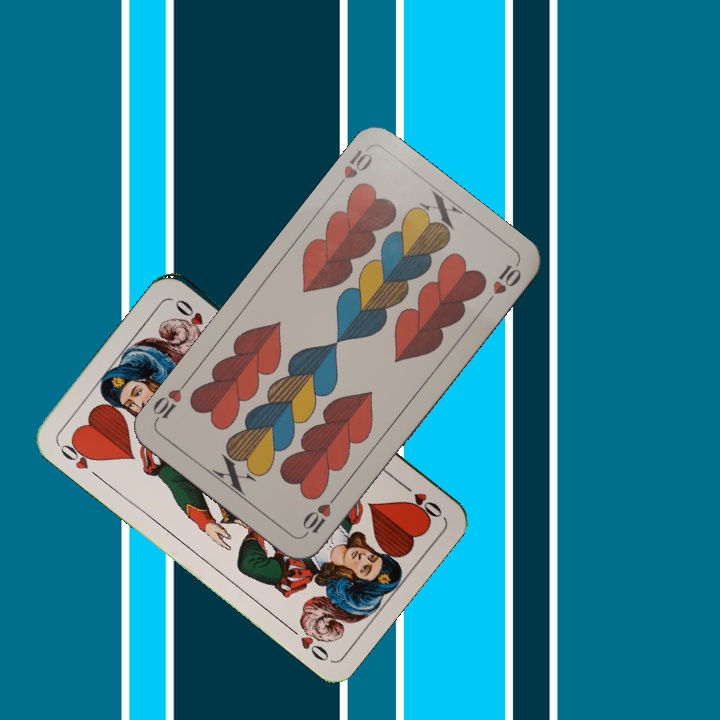H10: (330, 145, 375, 194), (298, 489, 341, 539)
HO: (54, 435, 104, 482), (395, 478, 445, 521)
